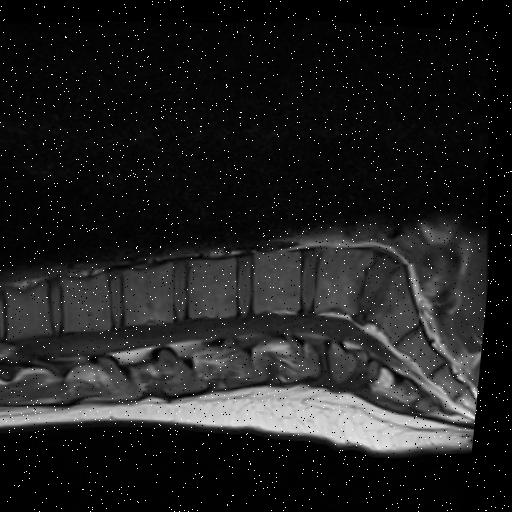L1: (68, 272, 117, 330)
L2: (129, 260, 179, 323)
L3: (195, 255, 242, 313)
L4: (260, 246, 306, 305)
L5: (320, 242, 378, 309)
S1: (371, 257, 425, 334)
